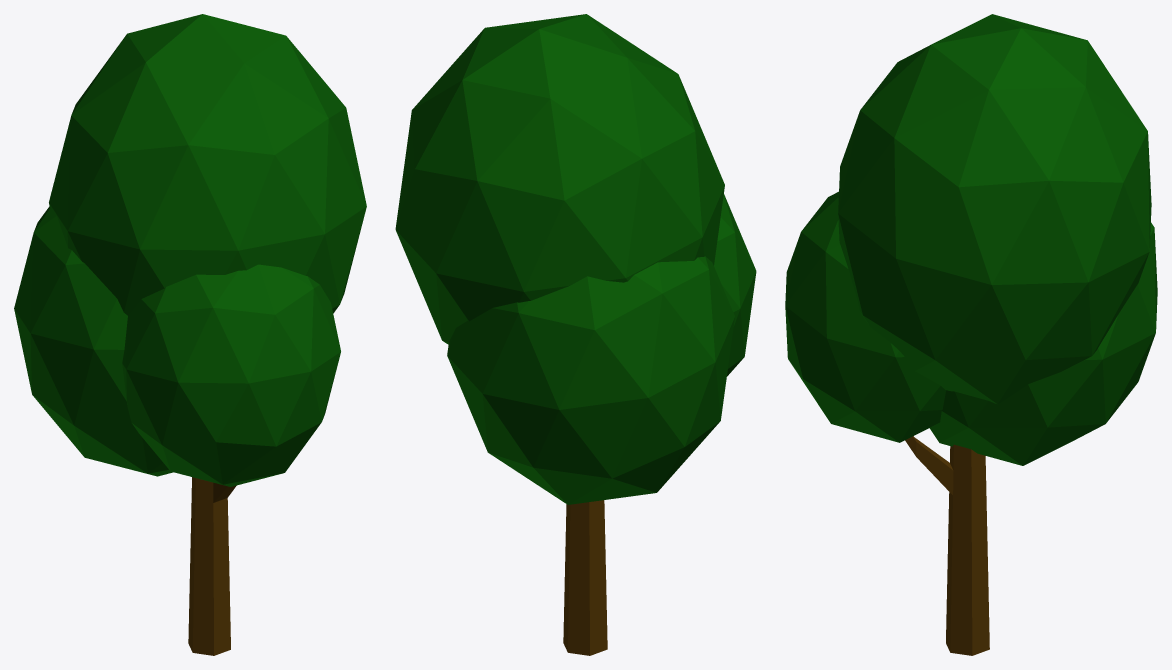
File: pohon2.gltf
3 renders of one model, left to right at view 1: azimuth 30°, elevation 25°; view 2: azimuth 150°, elevation 25°; view 3: azimuth 270°, elevation 25°, orthographic. The views are drawn at different scales.
Parts seen in each view (by area): view 1: Cylinder.004; view 2: Cylinder.004; view 3: Cylinder.004.
Boxes of the visible parts, x1,y1,x2,y2 form: Cylinder.004: [14, 14, 366, 655]; Cylinder.004: [395, 14, 756, 655]; Cylinder.004: [785, 14, 1157, 655].
Bounding box in the file's own units: 0.9197 × 1.77 × 0.9528.
